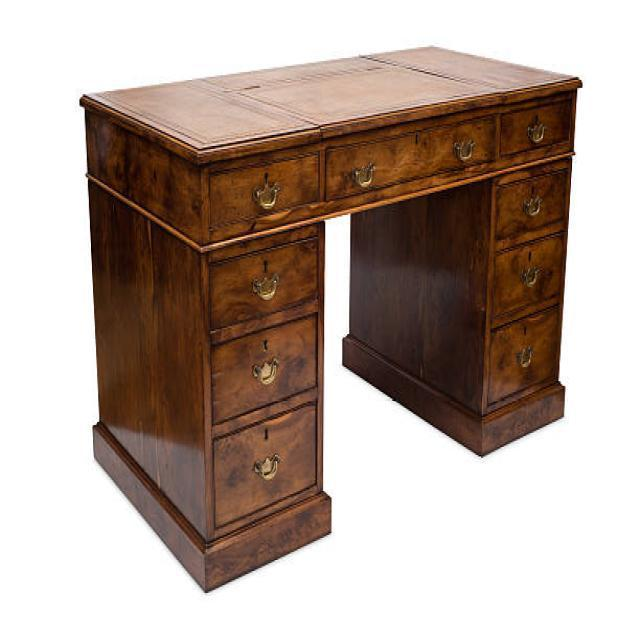table: (78, 42, 582, 593)
